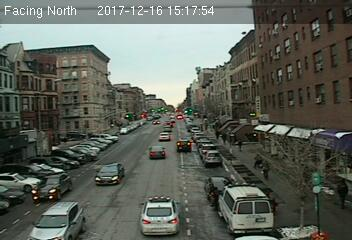car: (27, 201, 84, 240), (28, 175, 71, 198), (95, 163, 126, 185), (206, 174, 228, 197), (204, 150, 222, 166), (175, 139, 191, 152), (150, 146, 167, 157), (159, 132, 169, 140)
pedestrian: (335, 176, 350, 212)
police: (216, 183, 277, 235), (139, 195, 182, 236)
